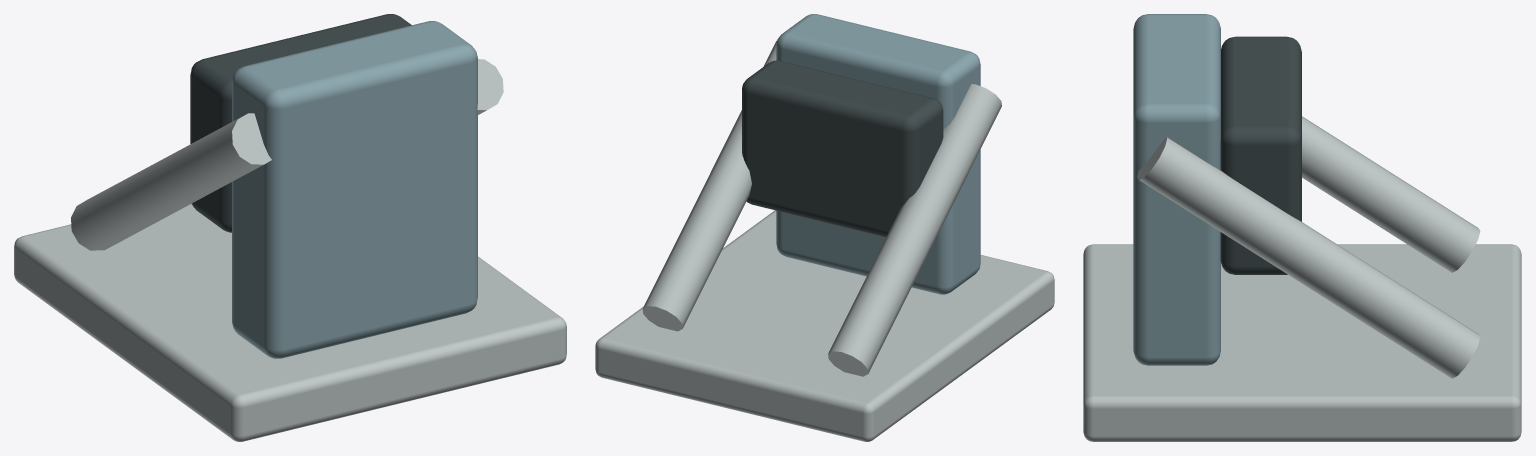
Rendered from abandoned-tidal-model-testing-hall-gantry-rail-end-sto-0f789f13__32348.glb.
3 renders of one model, left to right at view 1: azimuth 30°, elevation 25°; view 2: azimuth 150°, elevation 25°; view 3: azimuth 270°, elevation 25°, orthographic. The views are drawn at different scales.
Parts seen in each view (by area): view 1: gantry-rail-end-stop; view 2: gantry-rail-end-stop; view 3: gantry-rail-end-stop.
Part boxes in pixels (x1,y1,x2,y2): gantry-rail-end-stop: (14, 14, 566, 441); gantry-rail-end-stop: (595, 14, 1054, 441); gantry-rail-end-stop: (1083, 14, 1521, 441).
Bounding box in the file's own units: 0.3 × 0.27 × 0.35.
